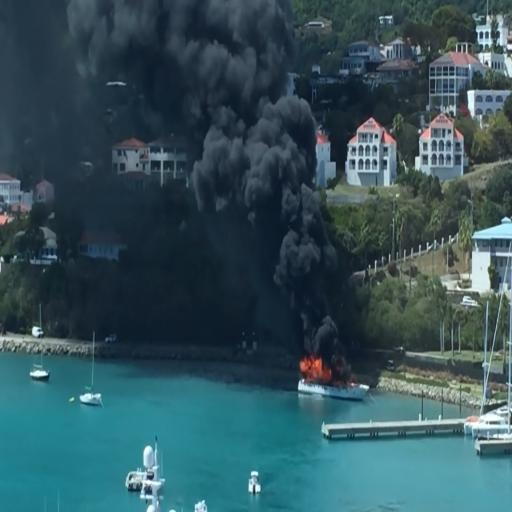fire: (298, 357, 334, 389)
smoke: (74, 1, 294, 98), (208, 101, 309, 231), (283, 223, 337, 312)
